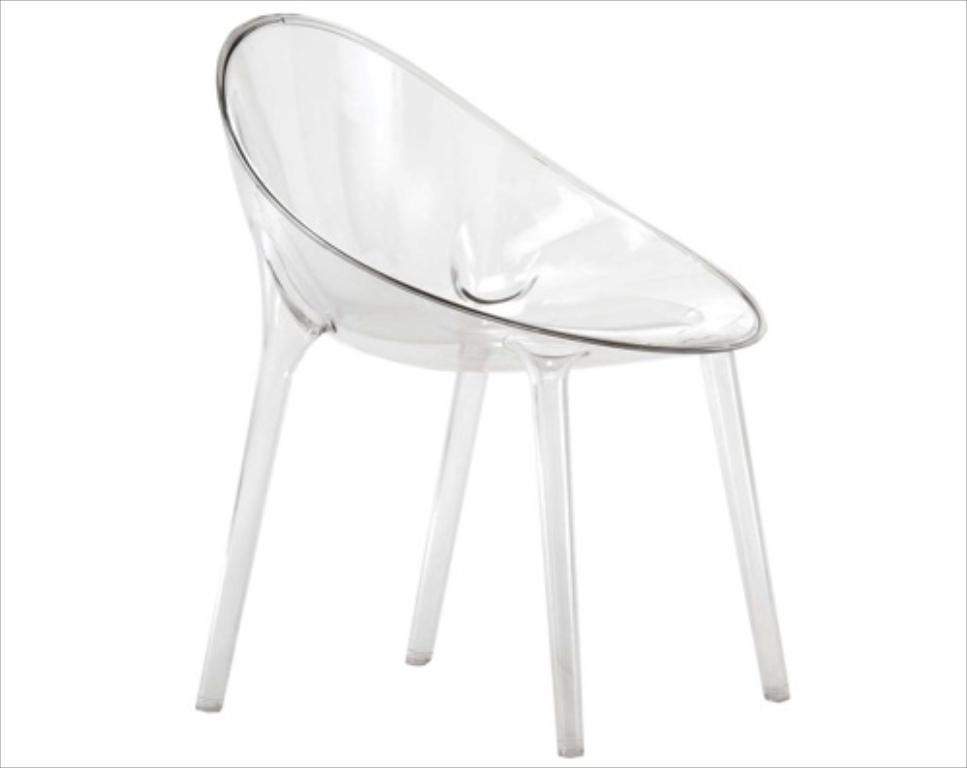Chair: (188, 8, 789, 758)
